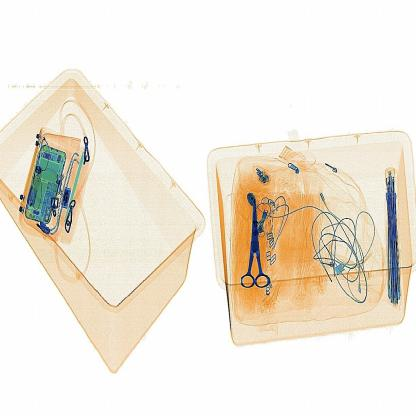gun: (238, 190, 282, 301)
